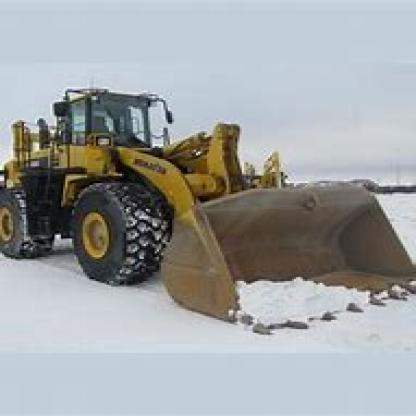bull_dozer/loader/grader: (0, 76, 414, 336)
